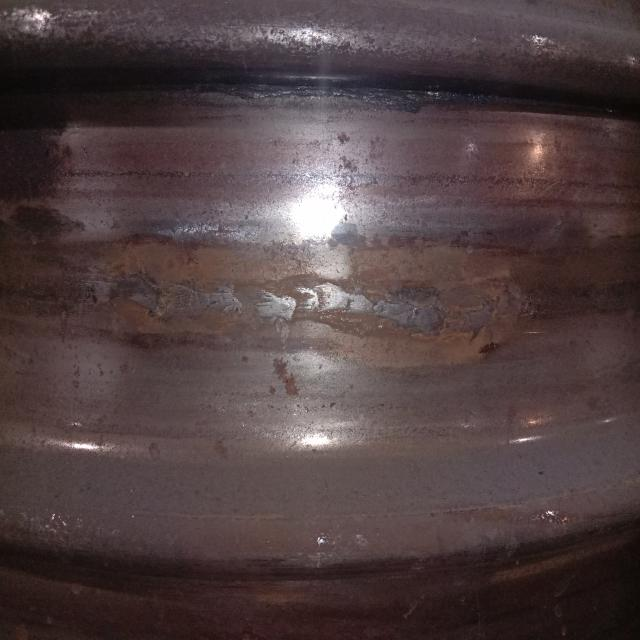flat: (39, 248, 516, 359)
